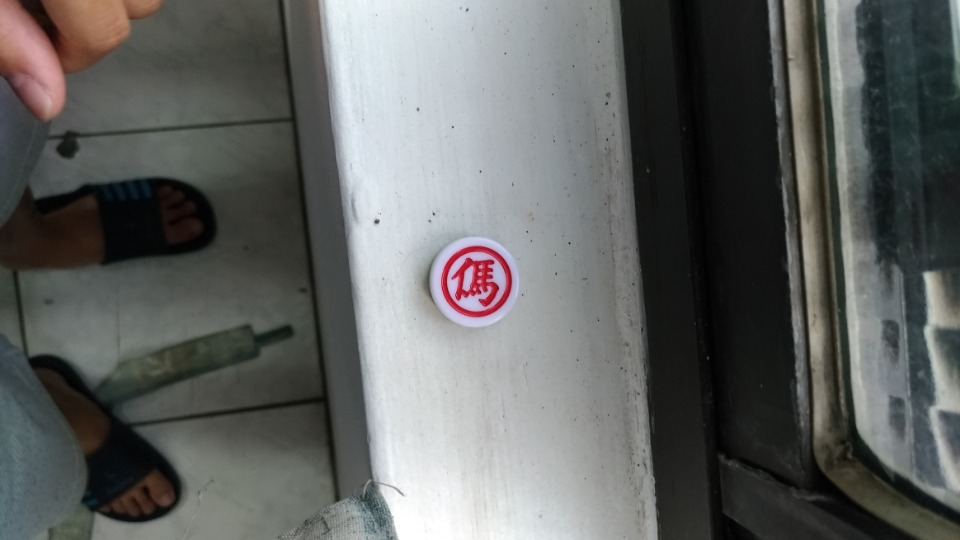r-knight: (414, 228, 539, 333)
